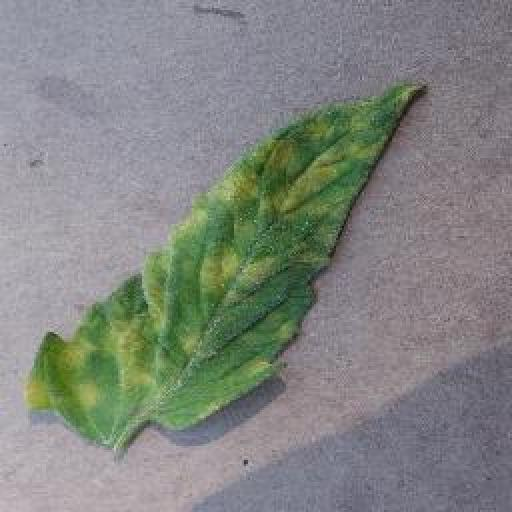disease_tomato: (24, 78, 427, 450)
